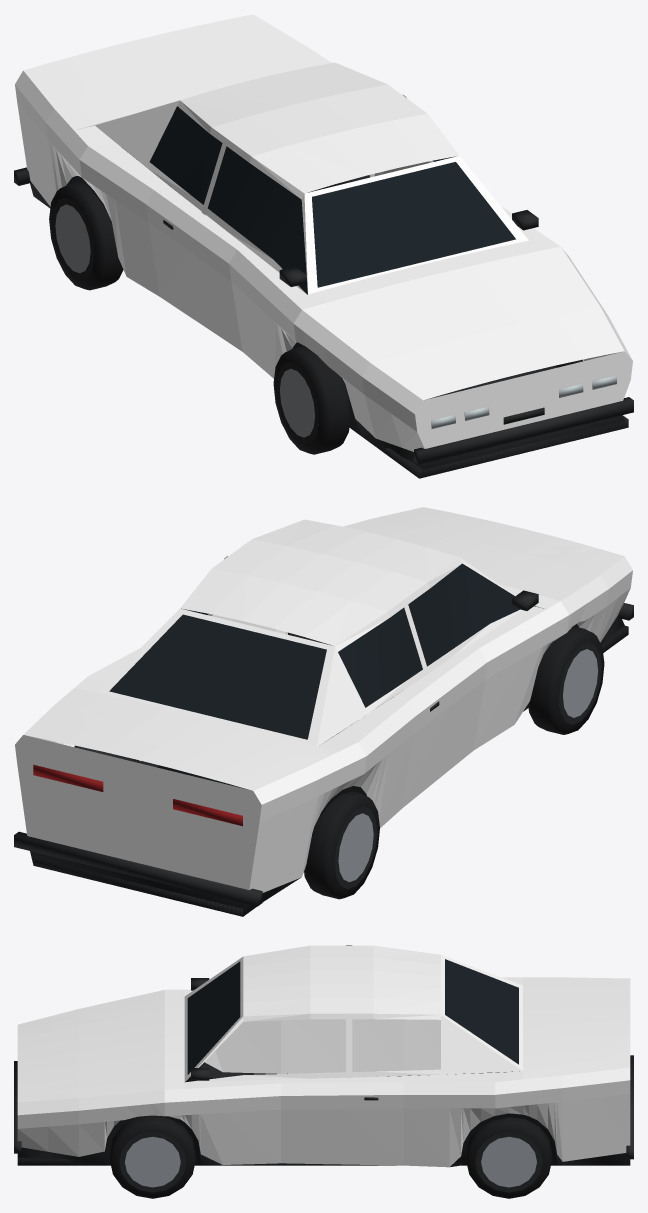
The model's file is ishigumo_ambar.glb.
The picture shows the model from 3 angles, top to bottom: view 1: azimuth 30°, elevation 25°; view 2: azimuth 150°, elevation 25°; view 3: azimuth 270°, elevation 25°; orthographic projection. The views are drawn at different scales.
Parts seen in each view (by area): view 1: Body_Paint, Body_Details, Mount_FrontLeft_Wheel_Details, Mount_RearLeft_Wheel_Details; view 2: Body_Paint, Body_Details, Mount_RearLeft_Wheel_Details, Mount_FrontLeft_Wheel_Details; view 3: Body_Paint, Body_Details, Mount_FrontRight_Wheel_Details, Mount_RearRight_Wheel_Details.
Boxes of the visible parts, <box> form: Body_Paint: <box>15,14,632,451</box>; Body_Details: <box>14,106,633,478</box>; Mount_FrontLeft_Wheel_Details: <box>273,346,350,454</box>; Mount_RearLeft_Wheel_Details: <box>49,181,123,290</box>; Body_Paint: <box>15,507,632,892</box>; Body_Details: <box>14,563,633,916</box>; Mount_RearLeft_Wheel_Details: <box>304,791,379,899</box>; Mount_FrontLeft_Wheel_Details: <box>528,626,604,734</box>; Body_Paint: <box>17,945,630,1167</box>; Body_Details: <box>14,959,633,1166</box>; Mount_FrontRight_Wheel_Details: <box>109,1115,195,1198</box>; Mount_RearRight_Wheel_Details: <box>466,1117,552,1198</box>.
Size of the model in its own units: 1.89 by 1.34 by 4.45.
2 materials, 1 textured.
